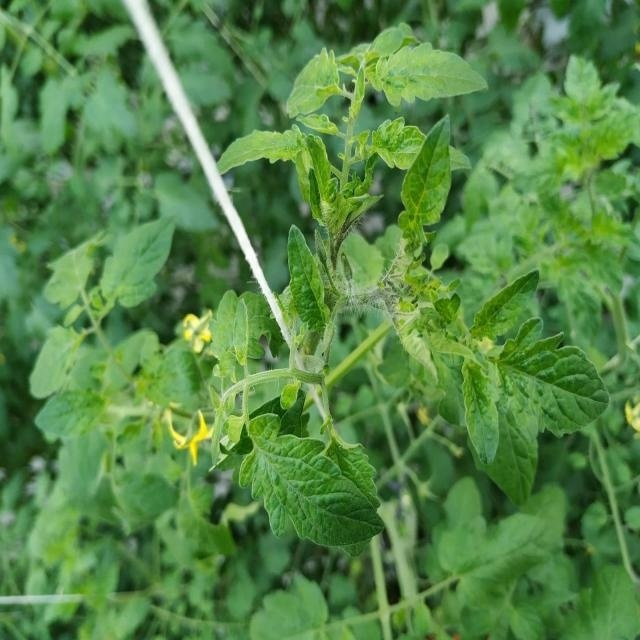T_Fl_H: (183, 310, 213, 353)
T_L_H: (240, 414, 385, 548), (498, 318, 611, 437), (369, 43, 489, 106), (288, 226, 330, 333)
T_L_R: (400, 118, 452, 251), (464, 361, 500, 466)
